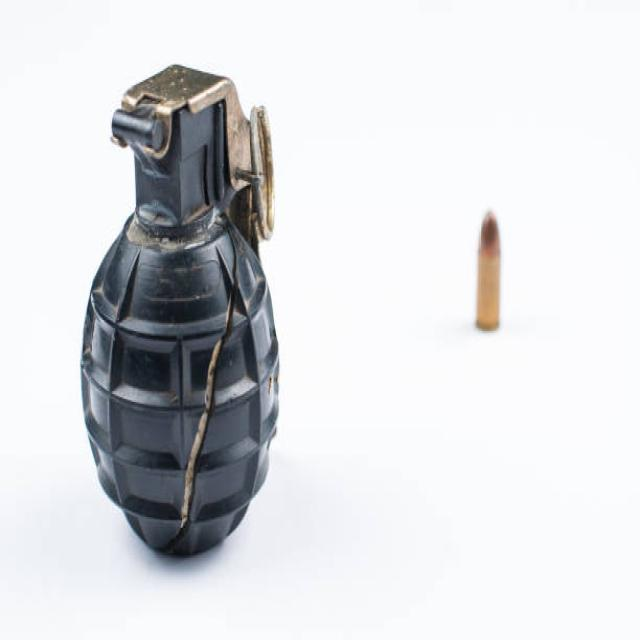grenade: (70, 57, 304, 563)
